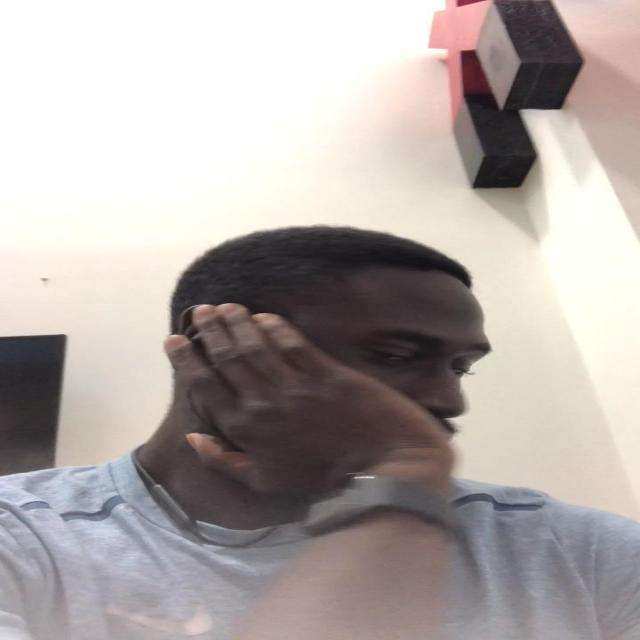face: (205, 289, 496, 465)
